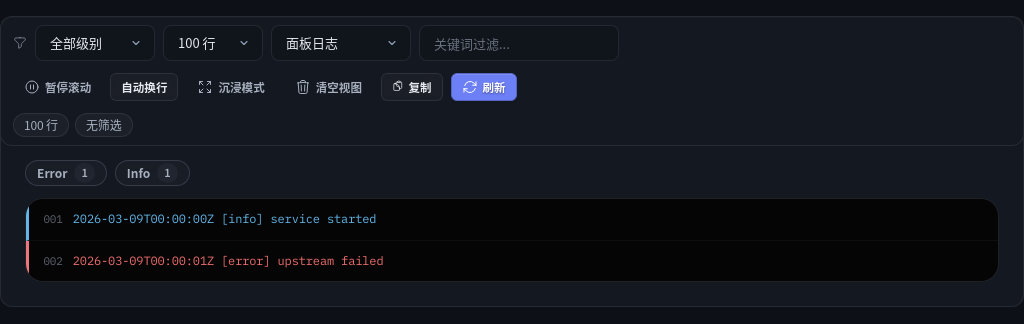
Logs › filters log lines by level in single-server mode
Check: the text "2026-03-09T00:00:00Z [info] service started" is shown, box [73,211,376,226]
Check: the text "2026-03-09T00:00:01Z [error] upstream failed" is shown, box [73,253,384,268]
Select "Error" in the dropdown showing "全部级别" at (95, 43), box [35,25,155,61]
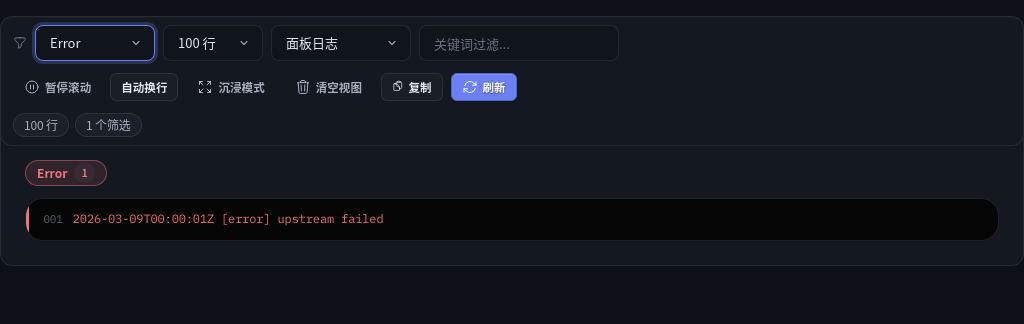
Check: the text "service started" is gone
Check: the text "2026-03-09T00:00:01Z [error] upstream failed" is shown, box [73,211,384,226]
